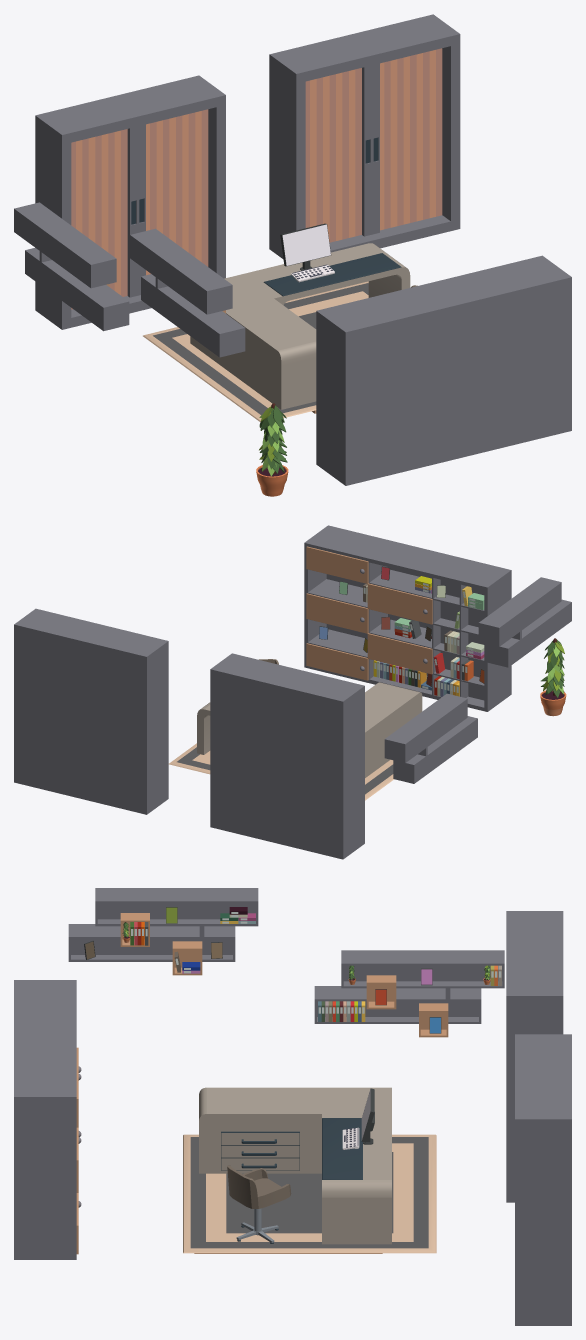
The model's file is KA_bureau_complet.fbx.
3 views of the same model, one above another, from view 1: azimuth 30°, elevation 25°; view 2: azimuth 150°, elevation 25°; view 3: azimuth 270°, elevation 25° (orthographic). The views are drawn at different scales.
Parts seen in each view (by area): view 1: Object003, Box017, Box018, Box009, Box015, Box016, Box008, Cylinder001, Box020; view 2: Object003, Box017, Box018, Box016, Box015, Box009, Cylinder001, Box008; view 3: Box009, Object003, Box017, Box008, Box015, Box016, Box018, Box014, Box020.
Part boxes in pixels (x1,y1,x2,y2): Object003: (316, 255, 571, 485); Box017: (269, 14, 460, 259); Box018: (35, 75, 225, 329); Box009: (190, 243, 410, 409); Box015: (130, 228, 245, 357); Box016: (14, 202, 129, 331); Box008: (143, 281, 368, 422); Cylinder001: (256, 403, 288, 496); Box020: (280, 223, 331, 270); Object003: (304, 525, 511, 711); Box017: (14, 608, 168, 814); Box018: (210, 653, 364, 859); Box016: (384, 693, 477, 783); Box015: (478, 577, 571, 667); Box009: (197, 682, 422, 777); Cylinder001: (540, 638, 566, 716); Box008: (169, 743, 393, 800); Box009: (199, 1087, 391, 1244); Object003: (14, 980, 81, 1259); Box017: (515, 1034, 571, 1325); Box008: (183, 1134, 436, 1253); Box015: (68, 888, 258, 975); Box016: (314, 950, 504, 1037); Box018: (506, 911, 563, 1202); Box014: (227, 1165, 291, 1243); Box020: (361, 1088, 374, 1144).
Bounding box in the file's own units: 231 × 96.36 × 234.
